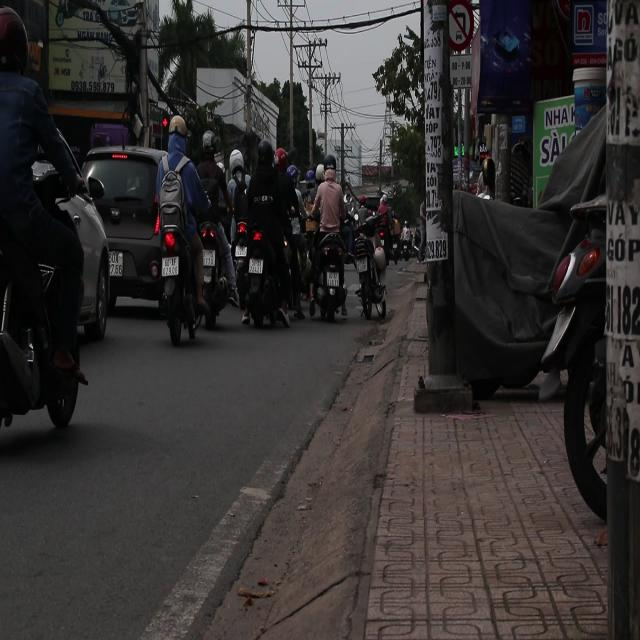car: (82, 145, 177, 320)
motorbike: (0, 110, 103, 446), (151, 175, 205, 349), (243, 204, 290, 342), (192, 200, 234, 345), (350, 204, 394, 324), (311, 218, 350, 343), (218, 206, 255, 307)
